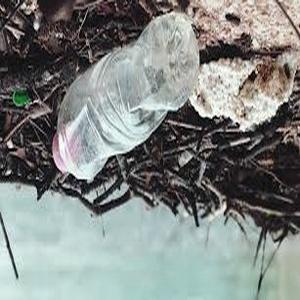Plastic: (52, 11, 201, 183)
